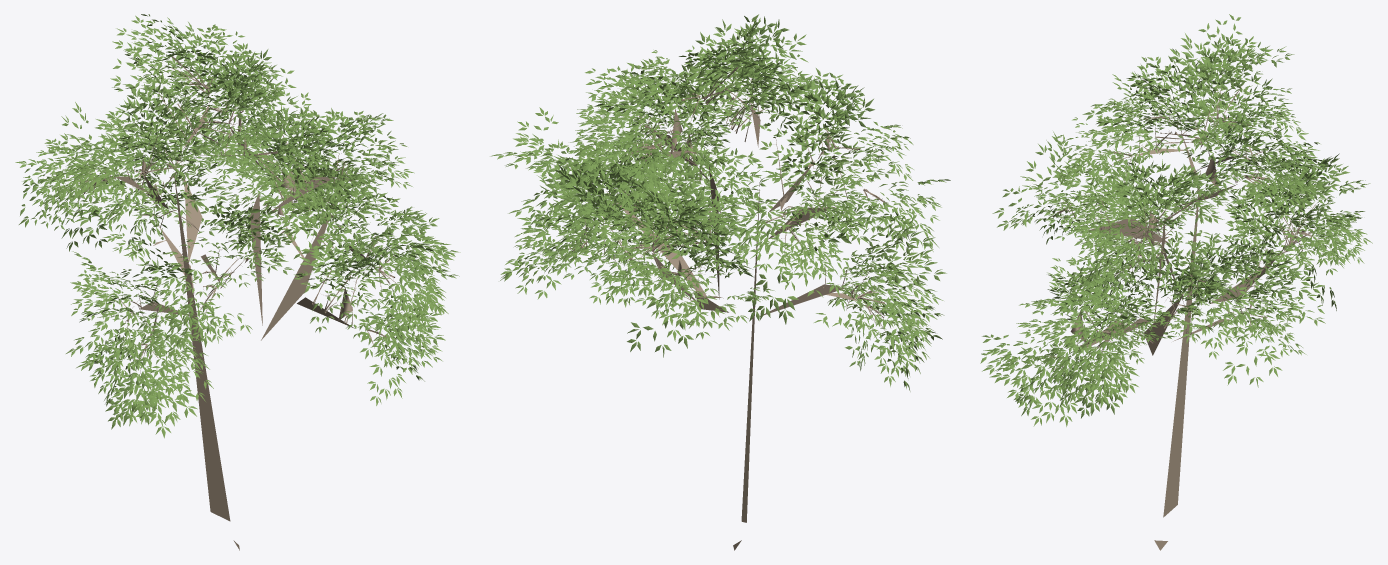
3 views of the same model, side by side, from view 1: azimuth 30°, elevation 25°; view 2: azimuth 150°, elevation 25°; view 3: azimuth 270°, elevation 25° (orthographic). The views are drawn at different scales.
Visible parts, largest first — view 1: V20_LOD2_Foliage, V20_LOD2_Body; view 2: V20_LOD2_Foliage, V20_LOD2_Body; view 3: V20_LOD2_Foliage, V20_LOD2_Body.
Part boxes in pixels (<box>): V20_LOD2_Foliage: <box>15,14,460,438</box>; V20_LOD2_Body: <box>77,56,397,550</box>; V20_LOD2_Foliage: <box>490,14,950,391</box>; V20_LOD2_Body: <box>564,67,891,550</box>; V20_LOD2_Foliage: <box>980,14,1372,426</box>; V20_LOD2_Body: <box>1049,69,1318,550</box>.
Bounding box in the file's own units: 9 × 12.3 × 8.59.
